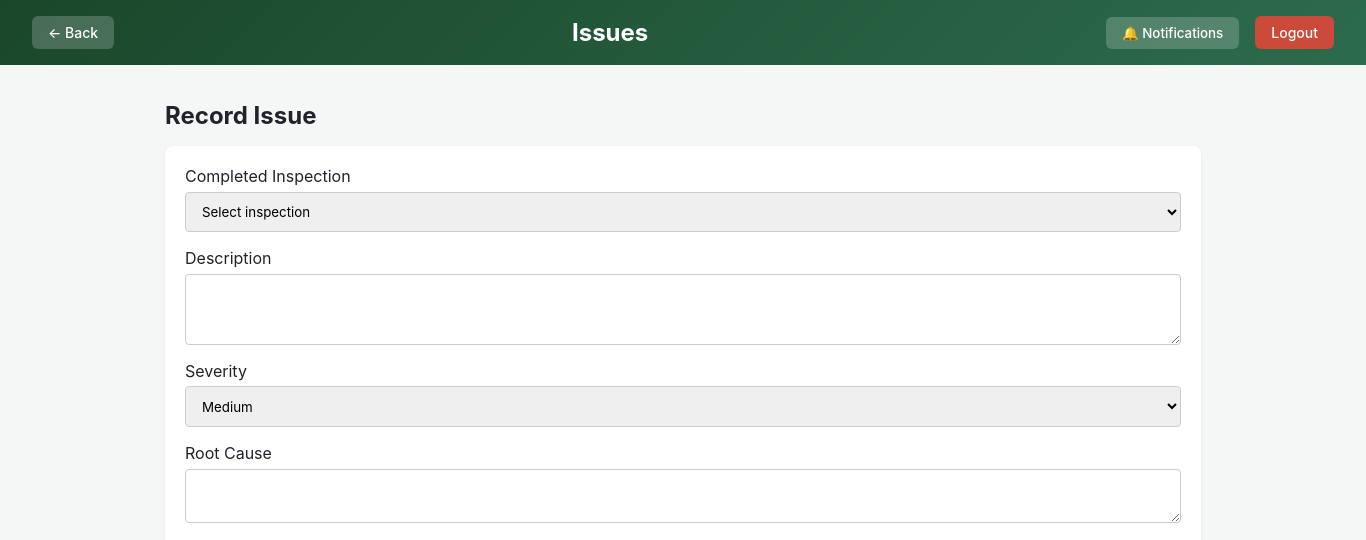
IssuesPage › displays backend validation error when issue recording fails
Step 1. Select "#10 — Central Playground (Customer Request)" in the dropdown labelled "Completed Inspection" → (683, 212), box [185,192,1181,232]
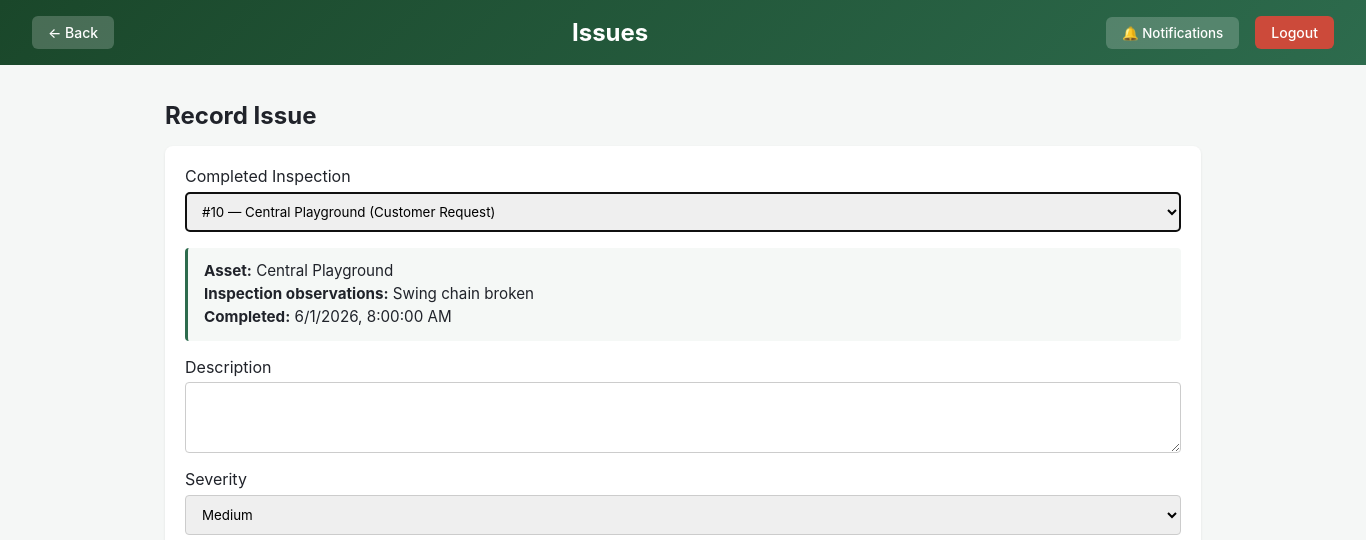
Step 2. Type "Duplicate attempt" into the text box labelled "Description" → (683, 418), box [185,382,1181,453]
(page scrolled)
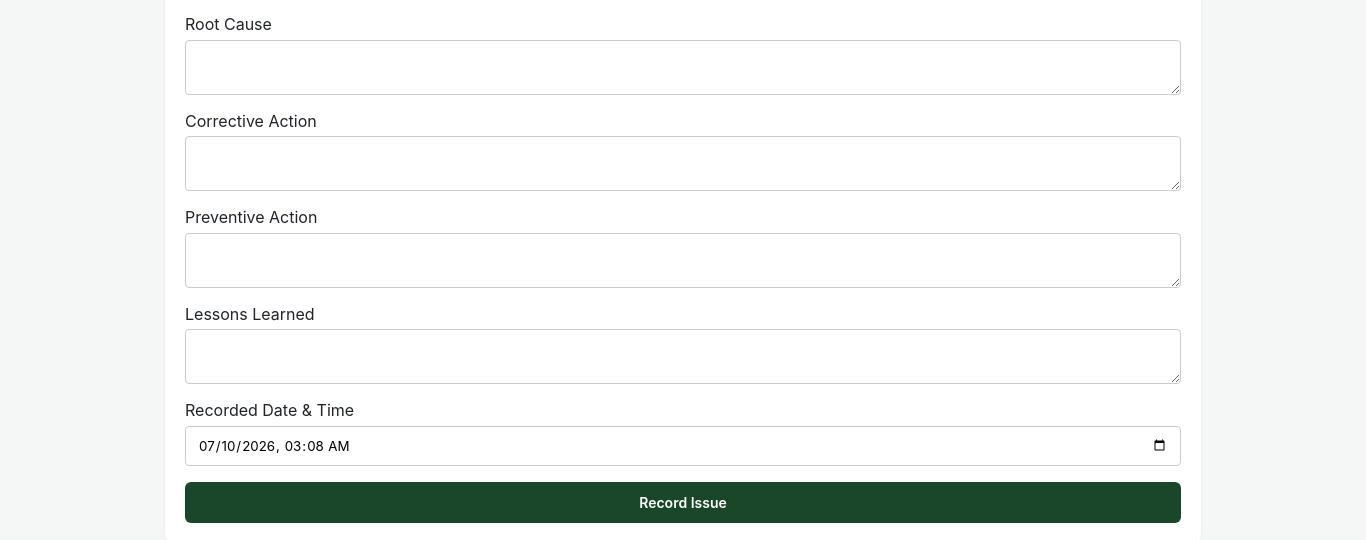
Step 3. Click the button "Record Issue" → (683, 503), box [185,482,1181,523]
(page scrolled)
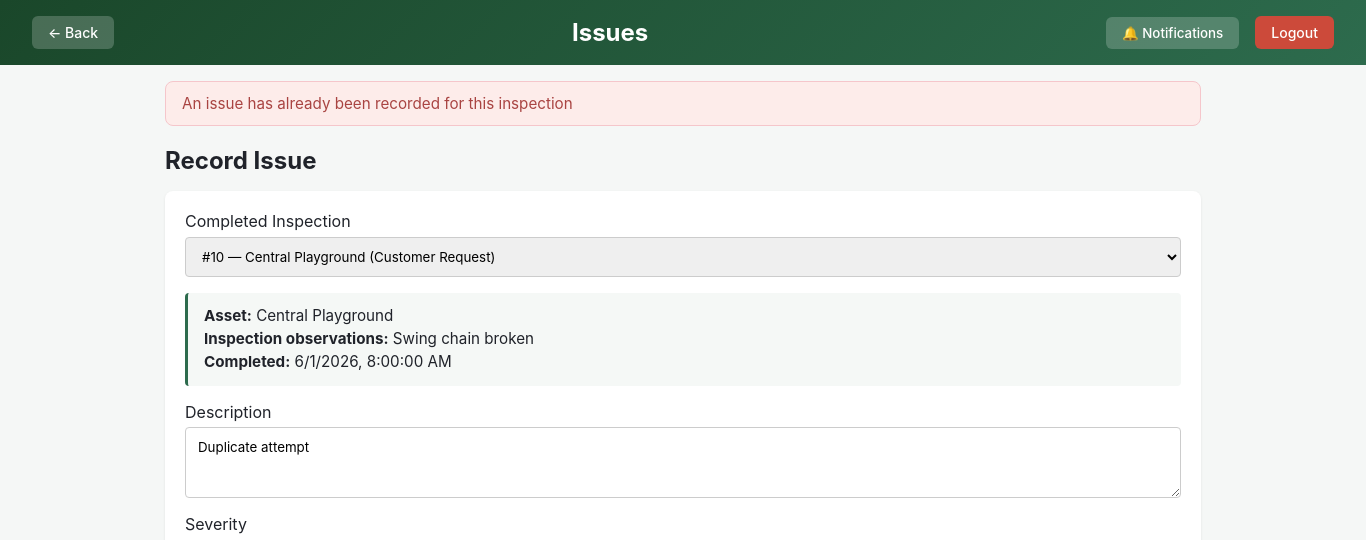
Now the text "An issue has already been recorded for this inspection" is shown, box [165,81,1201,126]
